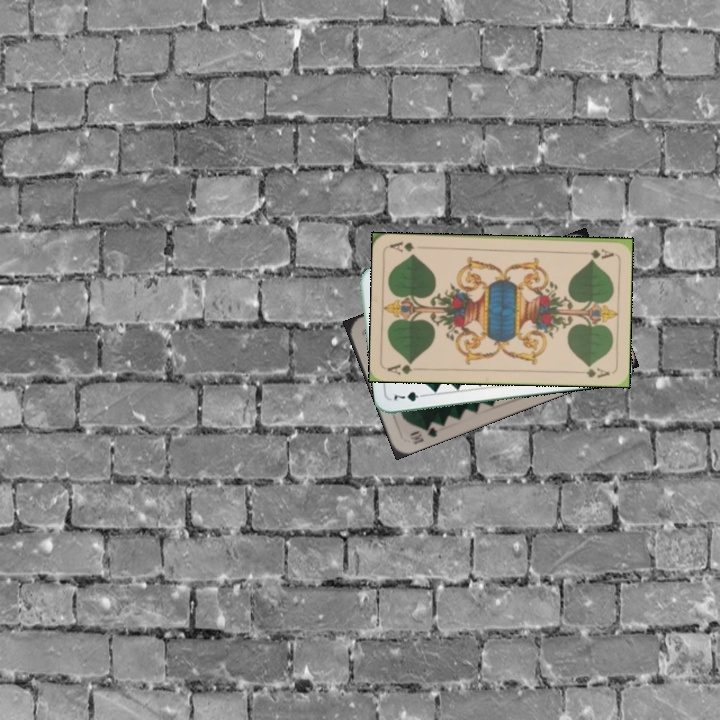G10: (406, 418, 442, 447)
G7: (390, 388, 429, 404)
GA: (384, 358, 425, 377), (586, 244, 616, 261)
